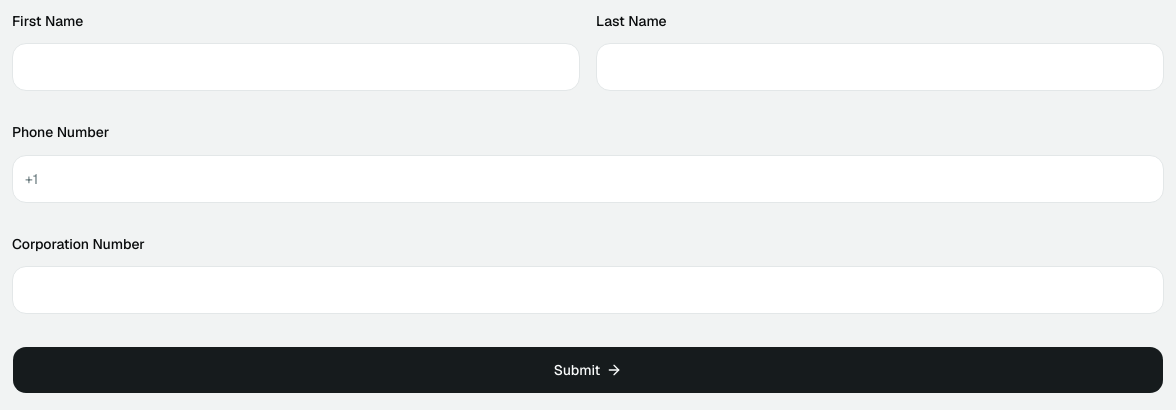
OnboardingForm › submits the form values and shows a success message on 200
Step 1. Type "Hello" into the field labelled "First Name" → [296, 67], box [12, 43, 580, 91]
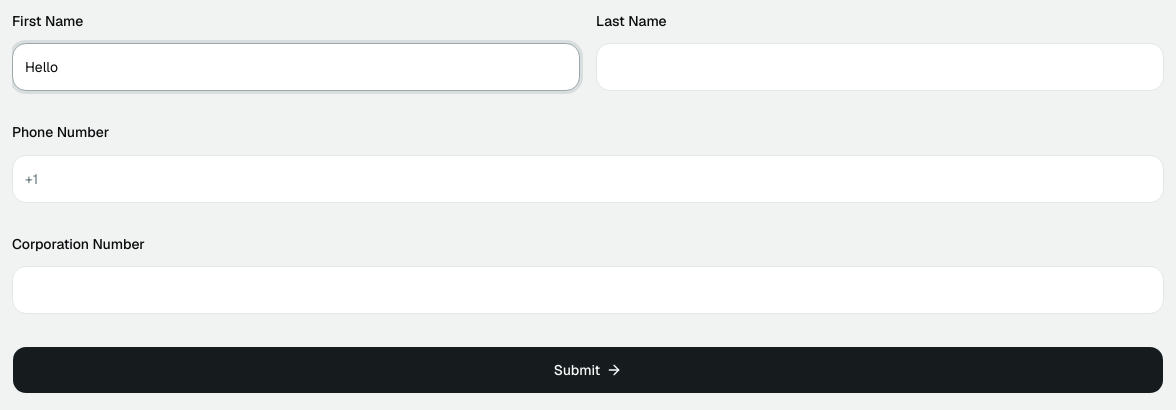
Step 2. Type "World" into the field labelled "Last Name" → [880, 67], box [596, 43, 1164, 91]
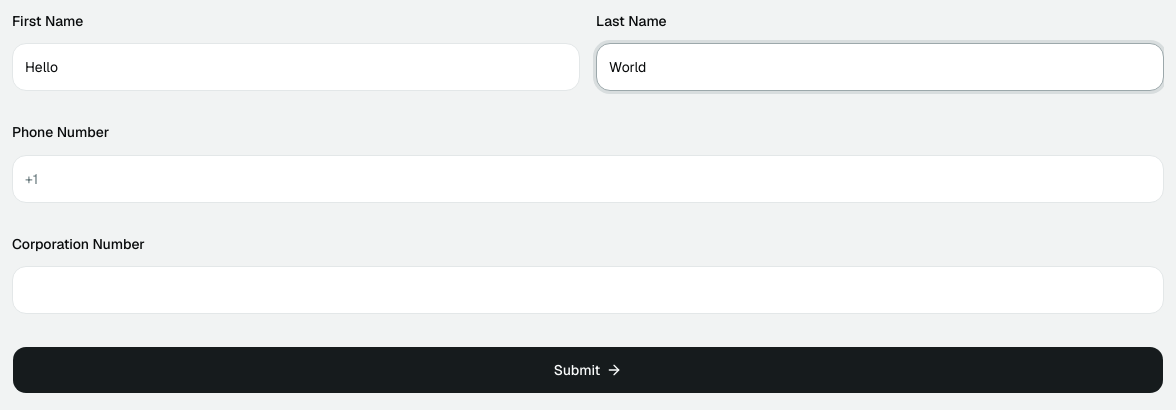
Step 3. Type "3062776103" into the field labelled "Phone Number" → [588, 178], box [12, 154, 1164, 202]
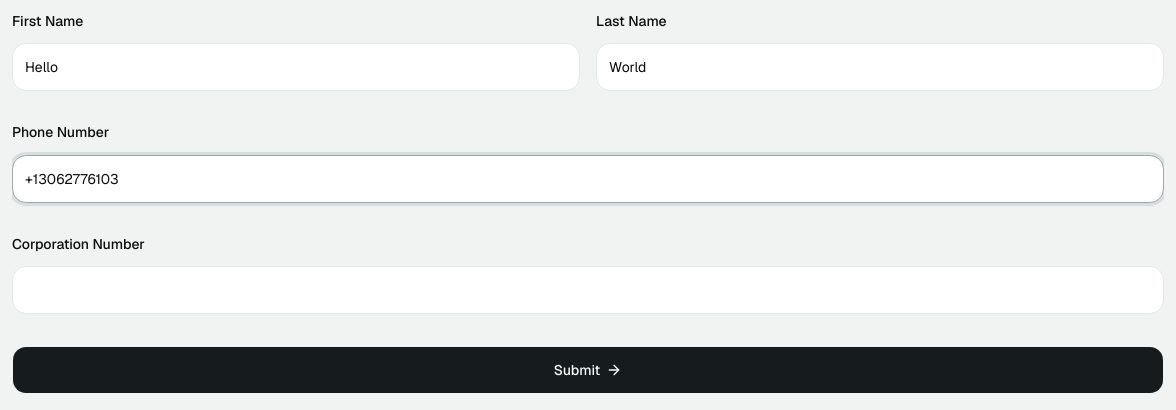
Step 4. Type "826417395" into the field labelled "Corporation Number" → [588, 290], box [12, 266, 1164, 314]
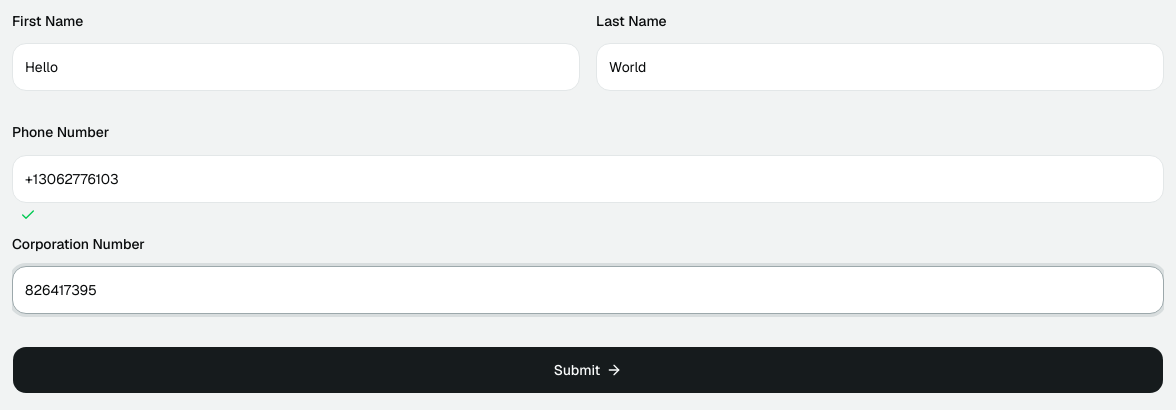
Step 5. Press Tab
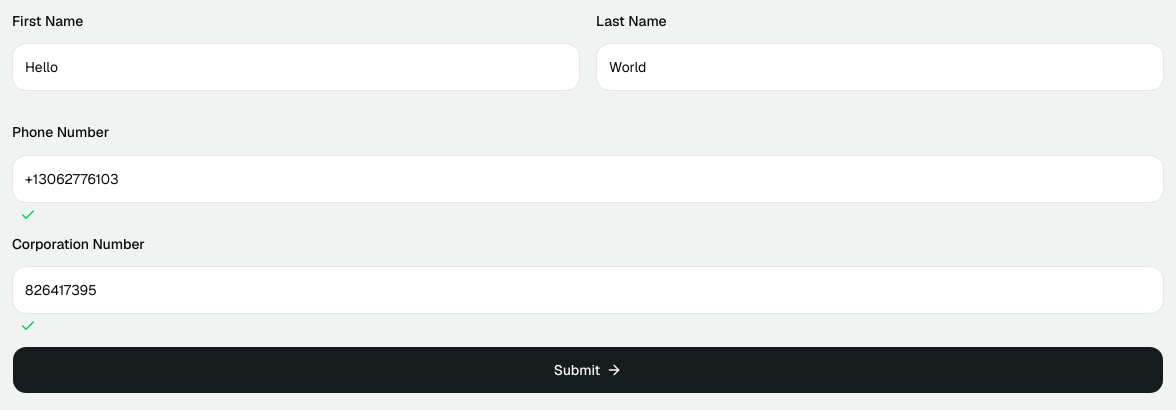
Step 6. Click the button "Submit" → [588, 370], box [12, 346, 1164, 394]
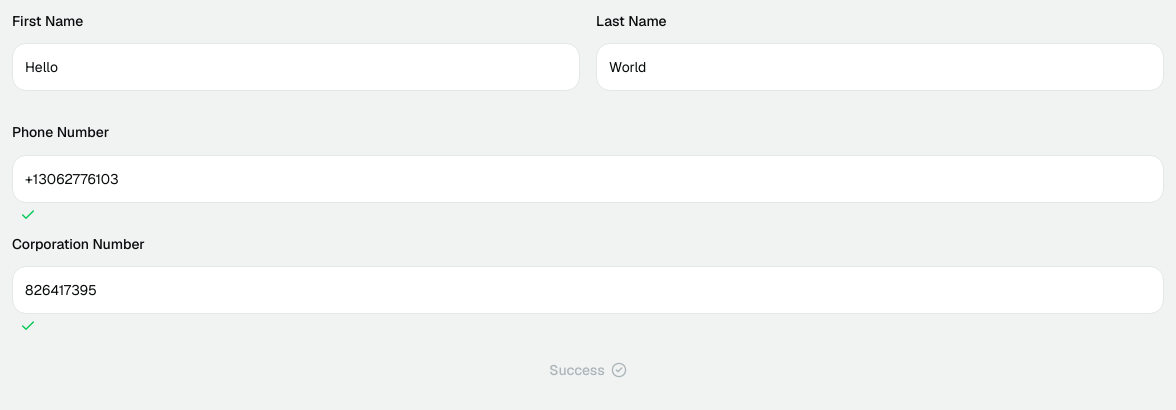
Expected: the button "Success" is disabled, [12, 346, 1164, 394]
